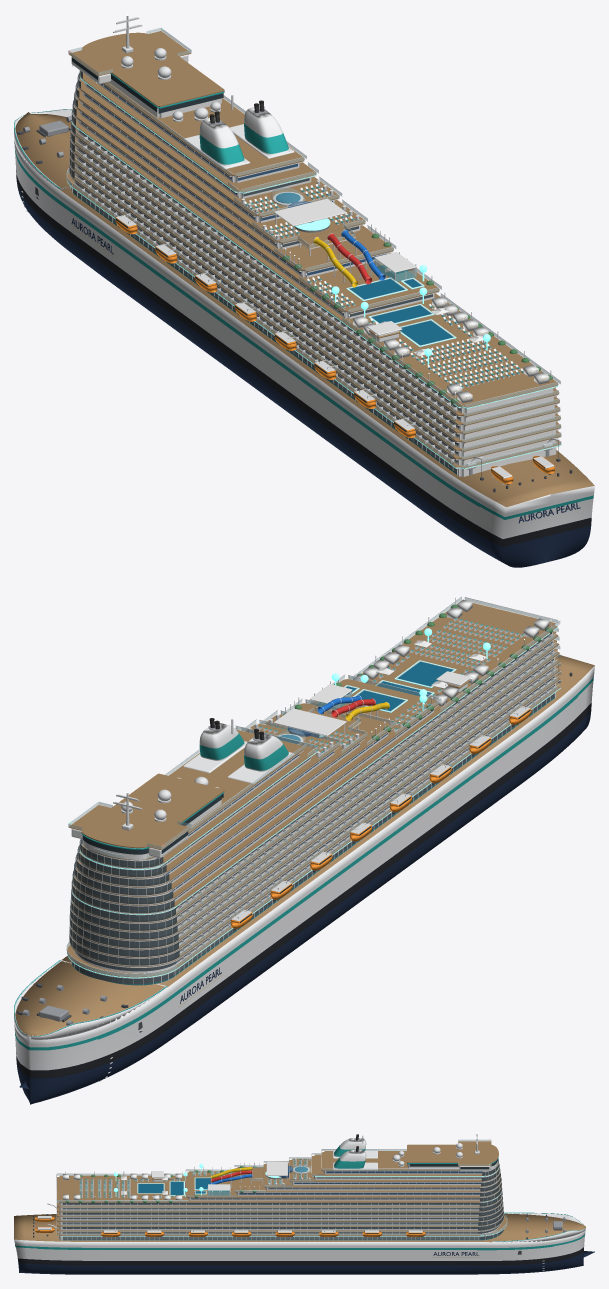
Rendered from AuroraPearl_CruiseShip.glb.
3 renders of one model, top to bottom at view 1: azimuth 30°, elevation 25°; view 2: azimuth 150°, elevation 25°; view 3: azimuth 270°, elevation 25°, orthographic. The views are drawn at different scales.
Visible parts, largest first — view 1: Hull, Deck_08, Bridge_Deck, Deck_09, Deck_10, Deck_14, Deck_11, Deck_12, Deck_13, Deck_06, Deck_07, AccentStripe_Port (+44 smaller); view 2: Hull, Deck_08, Bridge_Deck, Deck_09, Deck_10, Deck_14, AccentStripe_Port, Deck_11, Deck_12, Deck_07, Deck_06, Deck_04 (+48 smaller); view 3: Hull, Deck_08, Superstructure_01, Bridge_Deck, PromenadeGlass_Stbd, Deck_09, CabinWindows_06_Stbd, Deck_06, Deck_07, CabinWindows_05_Stbd, CabinWindows_04_Stbd, Balustrade_05_Stbd (+74 smaller).
Part boxes in pixels (box(x1,y1,x2,y2)): Hull: box(14, 112, 594, 567); Deck_08: box(73, 115, 558, 407); Bridge_Deck: box(81, 32, 224, 106); Deck_09: box(74, 106, 439, 313); Deck_10: box(75, 97, 393, 271); Deck_14: box(103, 82, 304, 177); Deck_11: box(77, 88, 365, 243); Deck_12: box(79, 79, 339, 217); Deck_13: box(81, 73, 316, 192); Deck_06: box(72, 133, 559, 425); Deck_07: box(72, 125, 559, 416); AccentStripe_Port: box(17, 156, 479, 506); Hull: box(14, 655, 594, 1104); Deck_08: box(73, 603, 557, 914); Bridge_Deck: box(81, 773, 224, 848); Deck_09: box(74, 679, 438, 905); Deck_10: box(75, 703, 392, 896); Deck_14: box(82, 729, 303, 860); AccentStripe_Port: box(98, 693, 578, 1039); Deck_11: box(77, 714, 364, 887); Deck_12: box(79, 724, 338, 878); Deck_07: box(73, 631, 558, 923); Deck_06: box(72, 640, 559, 932); Deck_04: box(71, 657, 560, 949); Hull: box(14, 1213, 585, 1274); Deck_08: box(57, 1175, 501, 1202); Superstructure_01: box(59, 1236, 489, 1240); Bridge_Deck: box(407, 1144, 498, 1162); PromenadeGlass_Stbd: box(63, 1236, 480, 1239); Deck_09: box(186, 1171, 501, 1197); CabinWindows_06_Stbd: box(62, 1212, 478, 1214); Deck_06: box(57, 1196, 502, 1212); Deck_07: box(57, 1191, 501, 1207); CabinWindows_05_Stbd: box(62, 1217, 478, 1219); CabinWindows_04_Stbd: box(62, 1222, 478, 1224); Balustrade_05_Stbd: box(62, 1219, 478, 1221).
Bounding box in the file's own units: 49.2 × 90.66 × 360.
